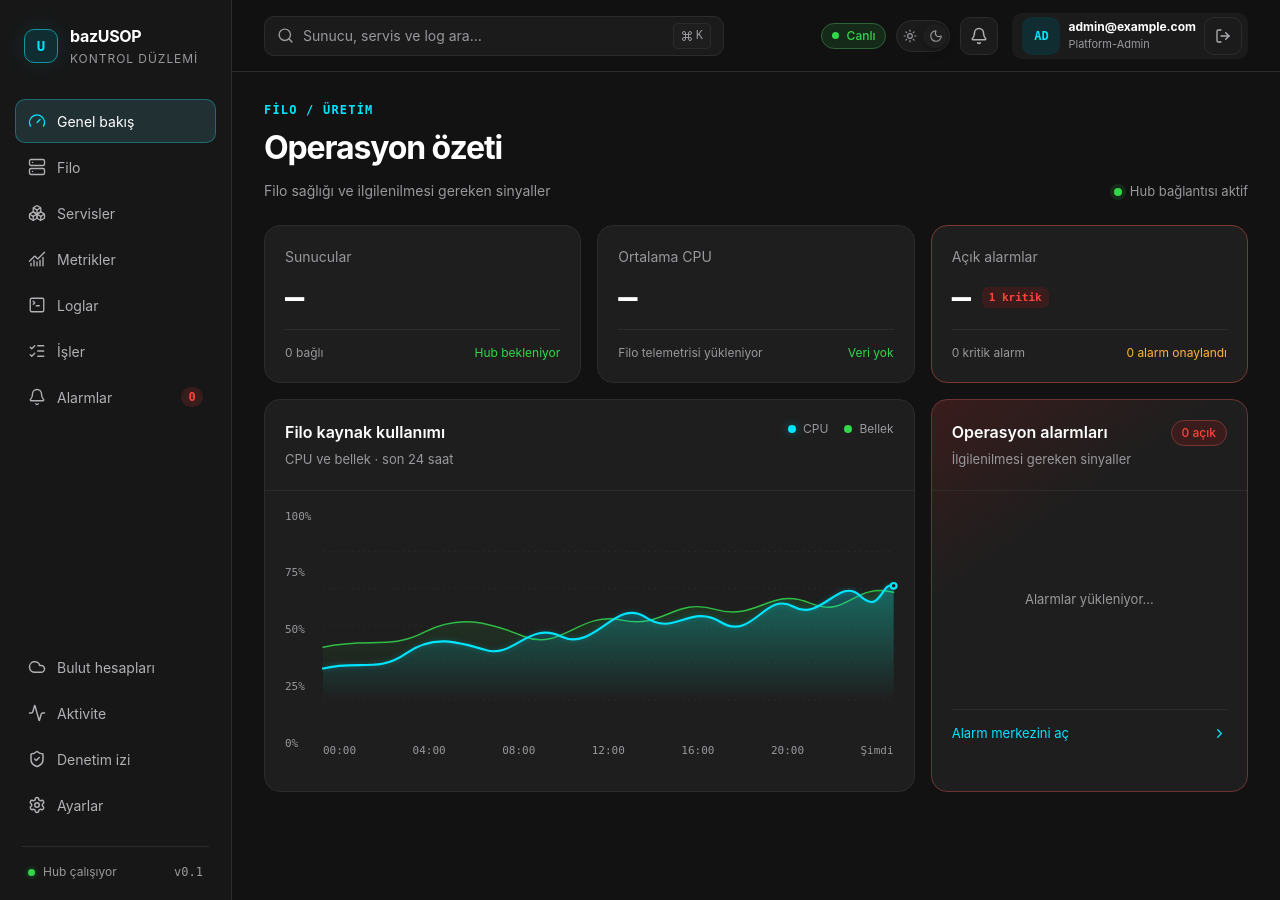
Test case: bazUSOP shell › shows provider accounts and safely reconciled cloud instances on their own page
Click the button "Bulut hesapları".
click(116, 667)  # box x1=16 y1=646 x2=215 y2=688
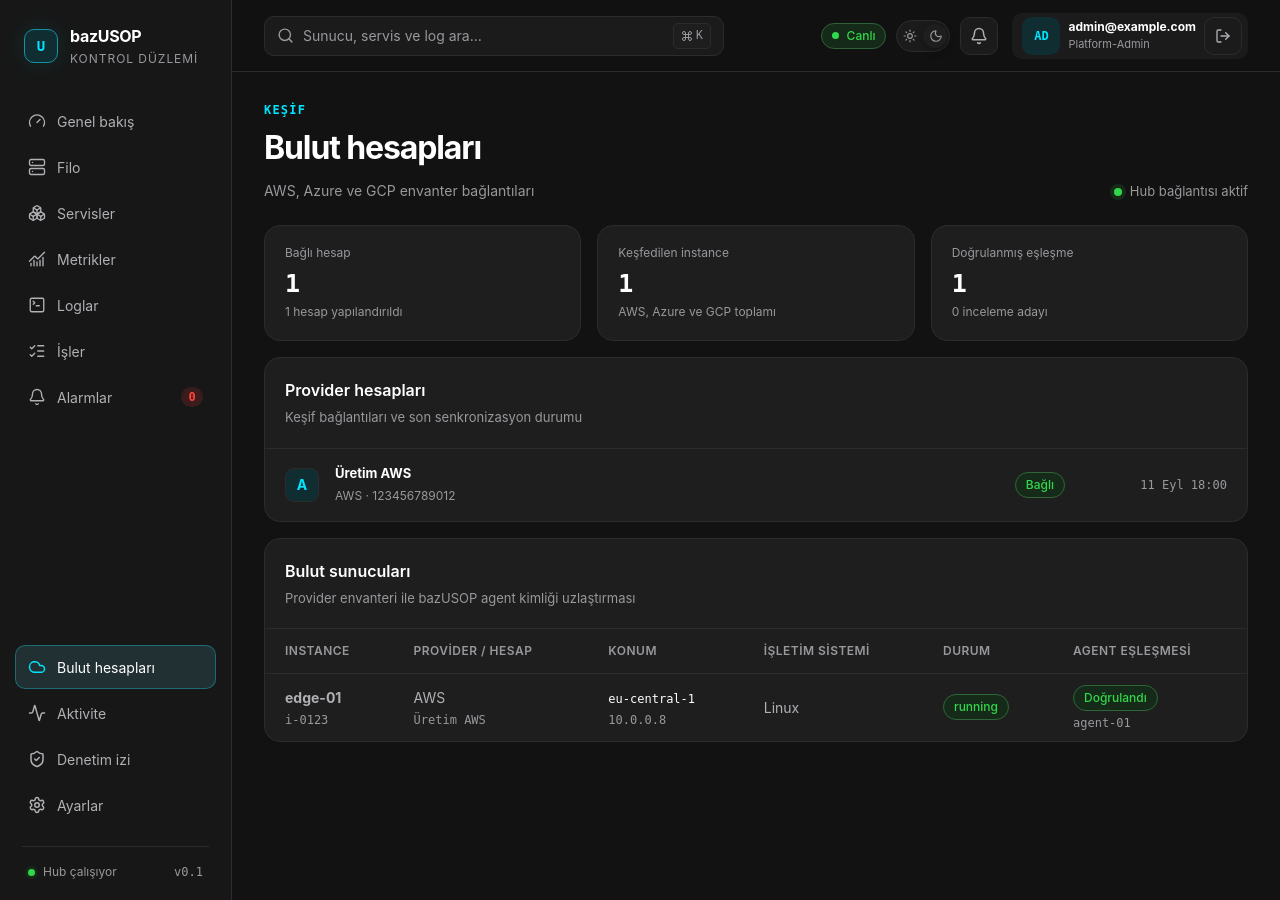
Expected: the text "Üretim AWS" is shown 2 times, x1=335 y1=465 x2=411 y2=481; x1=414 y1=713 x2=486 y2=727
Expected: the table named "Bulut sunucuları" is shown, x1=265 y1=629 x2=1247 y2=741
Expected: the text "i-0123" is shown, x1=285 y1=713 x2=328 y2=727
